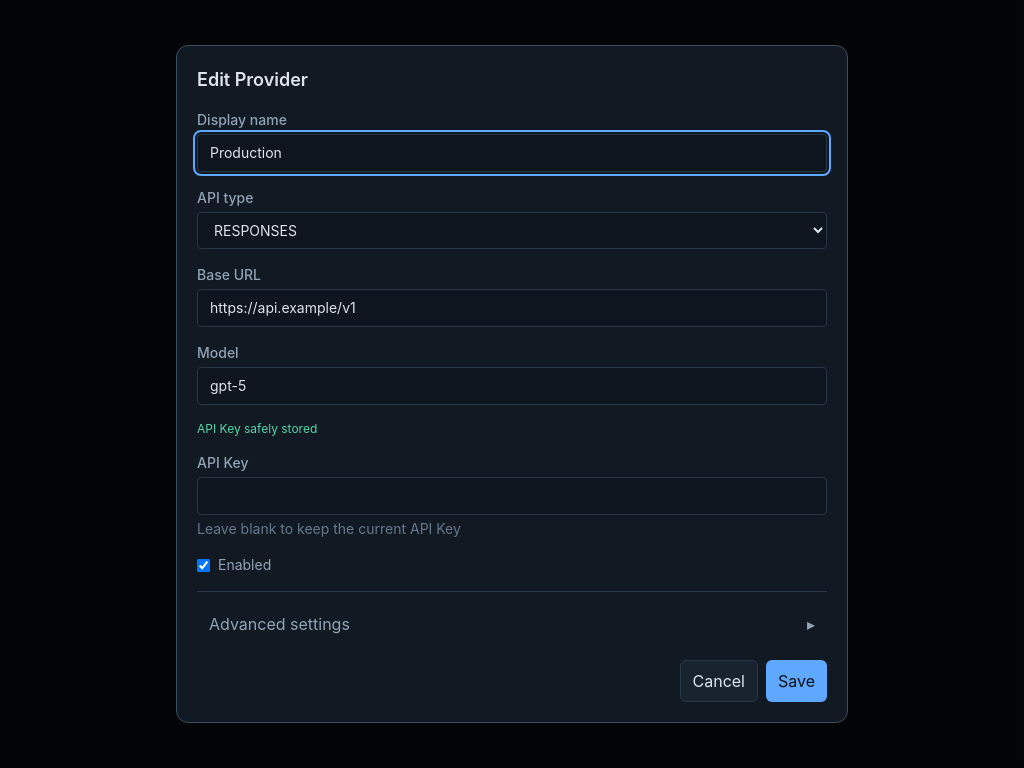
Test: hides persisted context budgets until advanced settings are expanded
expect the field labelled "Context window size" is not shown: met
Click the button "Advanced settings ▸" at (279, 624), box [197,604,827,644]
(page scrolled)
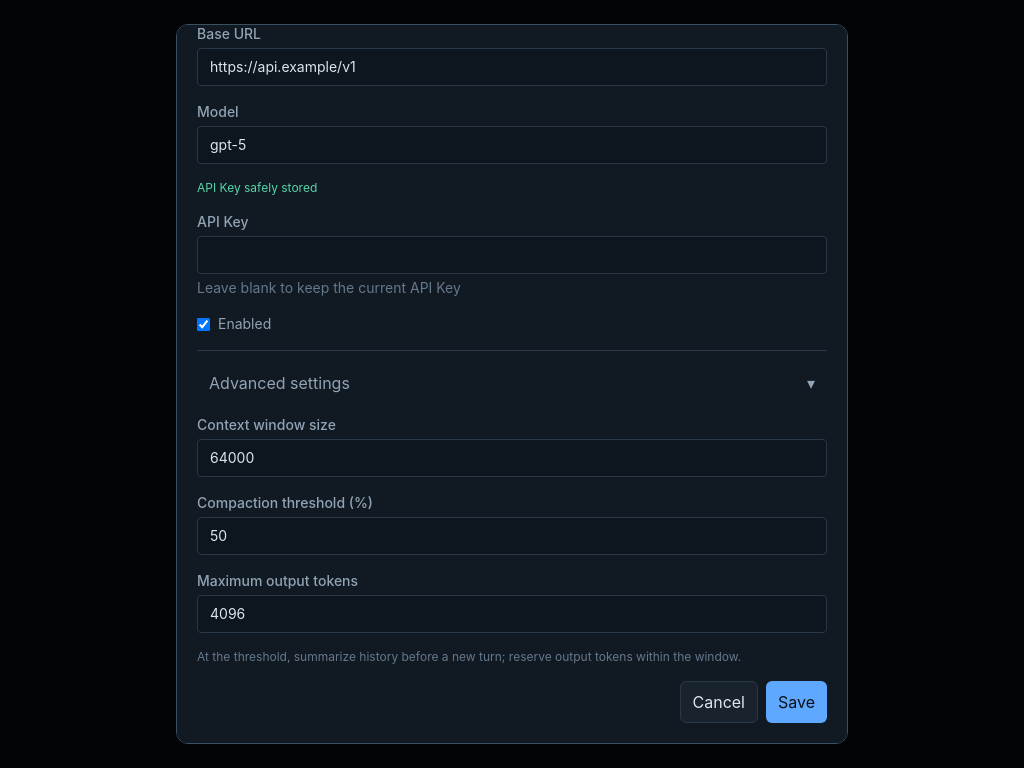
expect the number field labelled "Context window size" holds "64000": met, box [197,439,827,477]
expect the number field labelled "Compaction threshold (%)" holds "50": met, box [197,517,827,555]
expect the number field labelled "Maximum output tokens" holds "4096": met, box [197,595,827,633]
